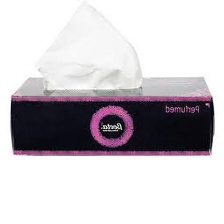book: (7, 73, 217, 159)
tissue: (30, 0, 145, 93)
